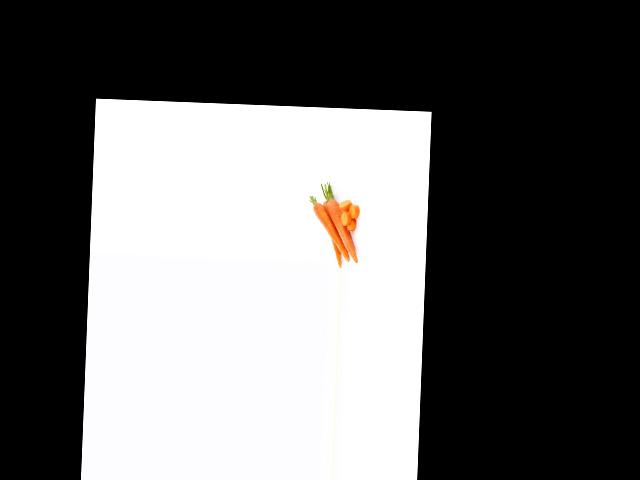carrot: (323, 193, 360, 263)
